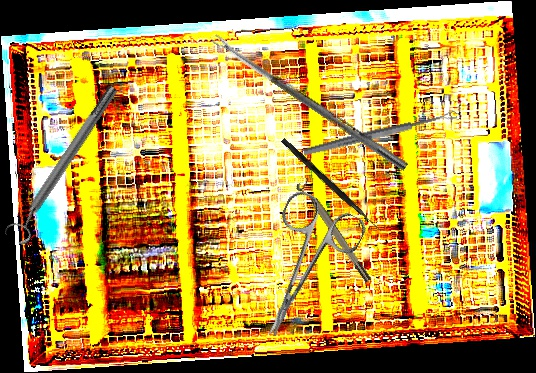Fixation Ring: (0, 80, 128, 248), (294, 177, 374, 287)
Hook Surgical: (279, 138, 385, 233)
Iris Scissors: (231, 187, 370, 352)
Surgical Spoon: (211, 32, 409, 172), (302, 109, 458, 158)
